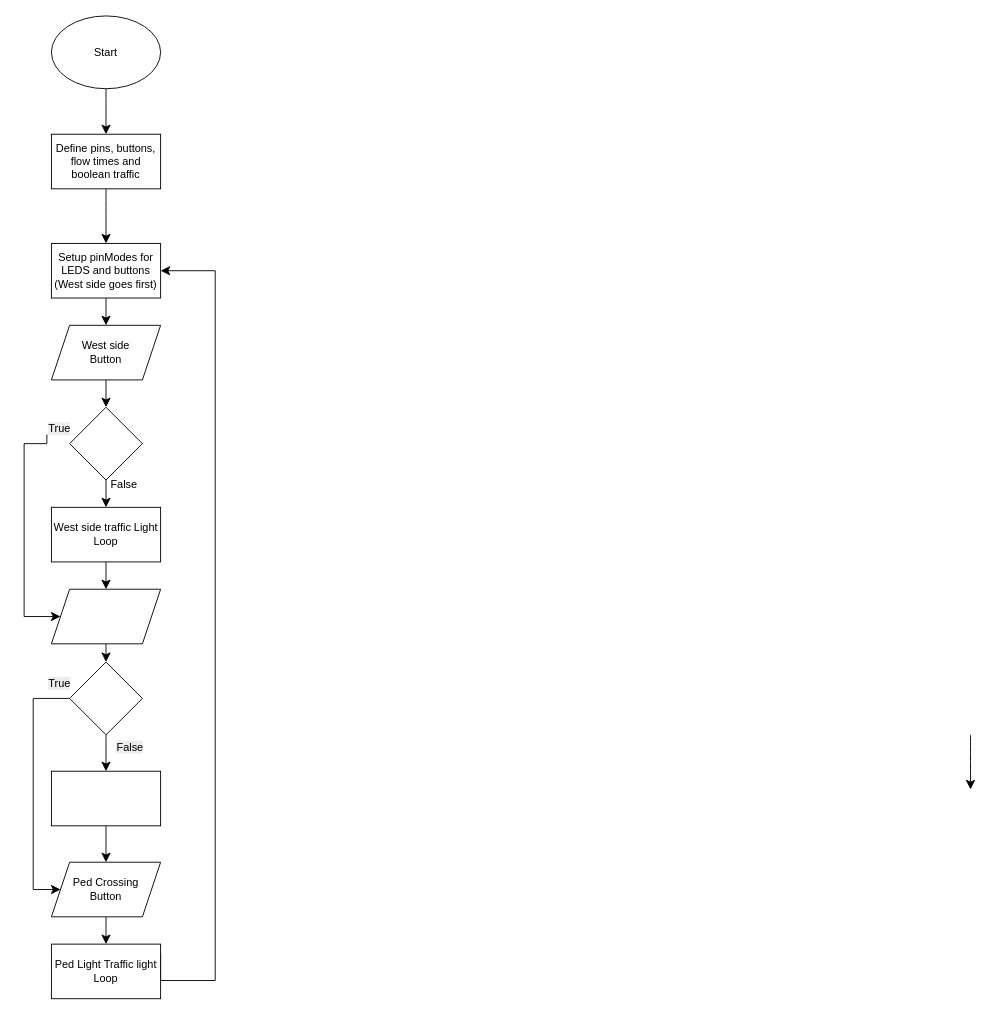
Image size: 991x1015. Some labels were removed from this diagram. The shapes that lost their labels are listed below. From the top down, each one's box as (x1, y1, x2, y2) in pixels, then its label:
(69, 406, 142, 480): IF TrafficWest ==
(51, 588, 161, 644): East side Button
(69, 661, 142, 735): IF TrafficEast ==
(51, 770, 161, 826): East side traffic light loop
